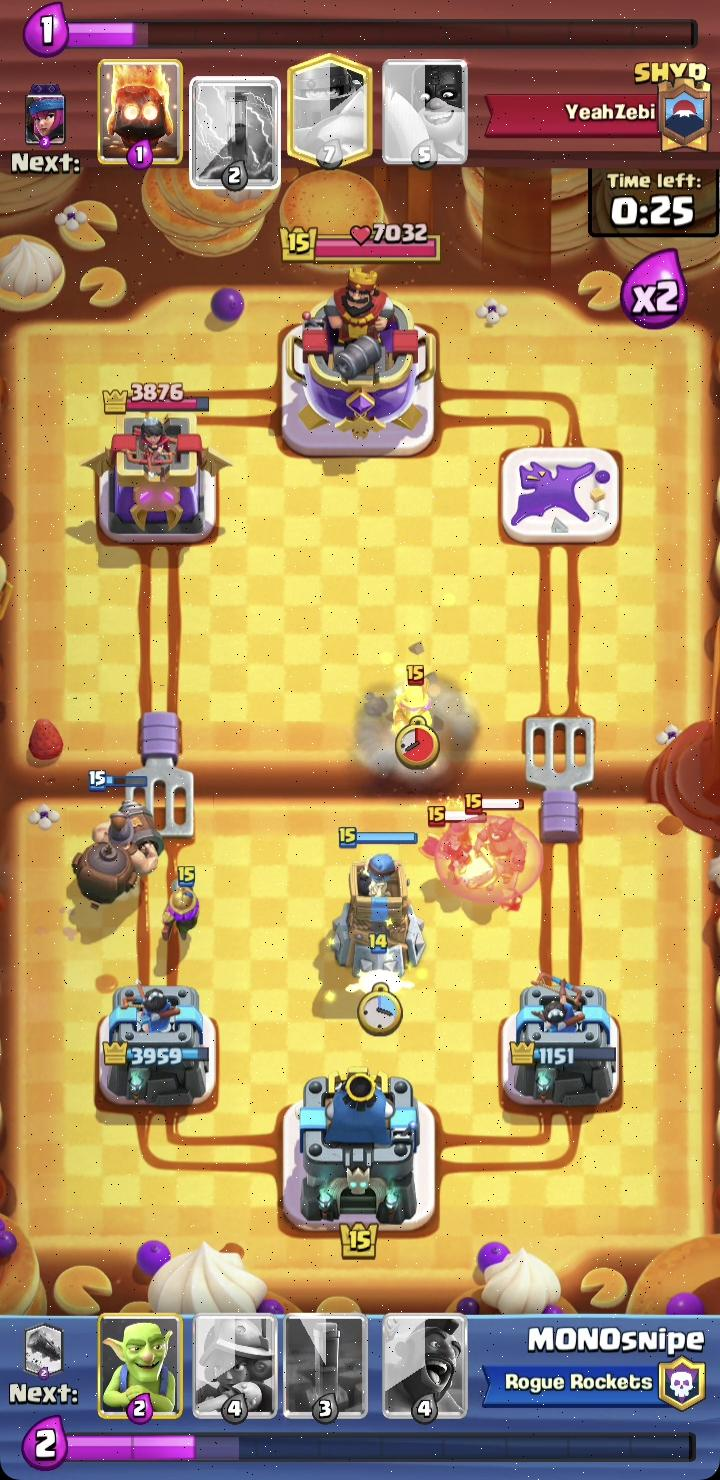EHogRider: (455, 810, 533, 910)
EKingTower: (282, 273, 434, 457)
EMusk: (380, 661, 448, 737)
EValk: (422, 795, 479, 873)
EnemyPrincessTower: (98, 384, 215, 544)
OBombertower: (331, 853, 425, 976)
OIceSpirit: (347, 936, 414, 994)
OMightyMiner: (72, 776, 164, 905)
OMusk: (163, 866, 199, 941)
OwnKingTower: (294, 1071, 420, 1226)
OwnPrincessTower: (502, 974, 618, 1106), (100, 984, 213, 1106)
TowerDown: (501, 448, 619, 545)
